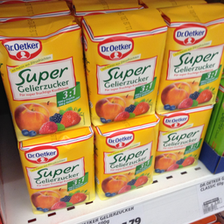sugar: (2, 14, 91, 141), (80, 7, 168, 126), (158, 3, 224, 113), (17, 129, 96, 214), (95, 117, 160, 200), (155, 105, 212, 173)
